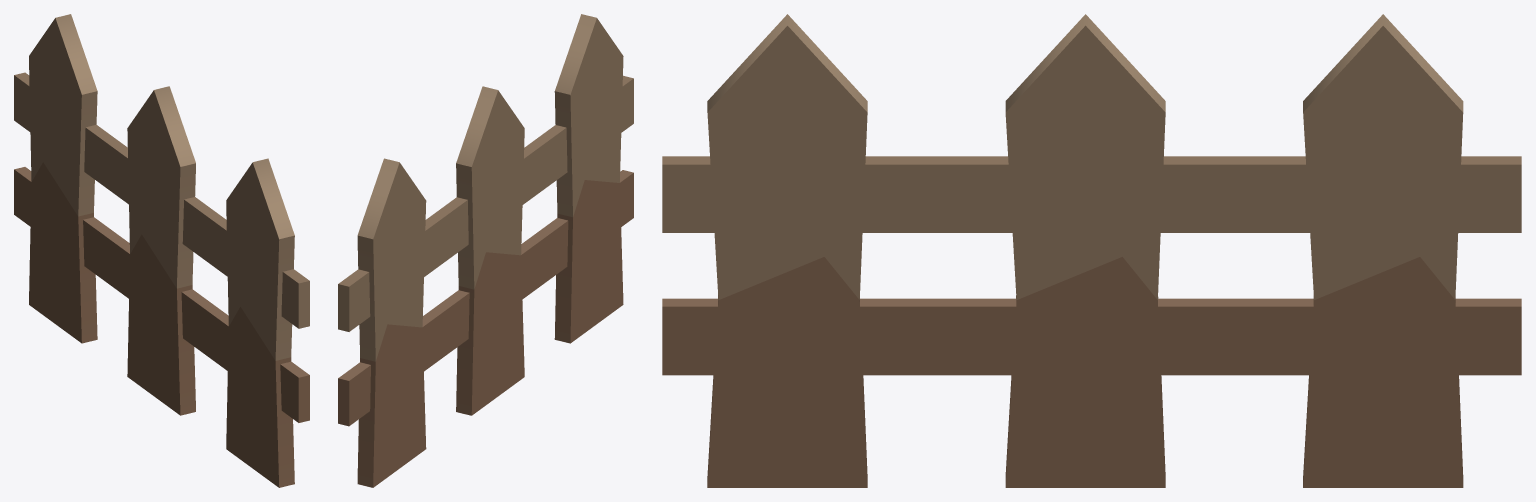
File: fence.glb
3 renders of one model, left to right at view 1: azimuth 30°, elevation 25°; view 2: azimuth 150°, elevation 25°; view 3: azimuth 270°, elevation 25°, orthographic. The views are drawn at different scales.
Parts seen in each view (by area): view 1: Fence.001; view 2: Fence.001; view 3: Fence.001.
Part boxes in pixels (left/top/right/bottom): Fence.001: left=14, top=14, right=309, bottom=487; Fence.001: left=338, top=14, right=633, bottom=487; Fence.001: left=662, top=14, right=1521, bottom=487.
Bounding box in the file's own units: 0.0267 × 0.4981 × 0.8392.
